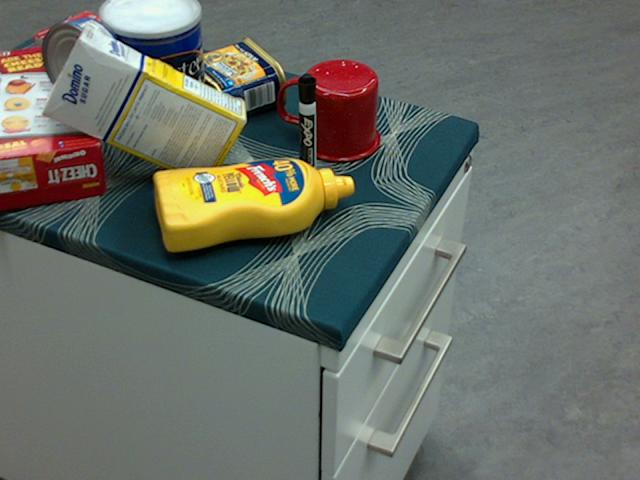cracker_box: (0, 46, 107, 209)
gelatin_box: (35, 12, 129, 73)
large_marker: (296, 73, 316, 180)
master_chef_can: (100, 0, 205, 149)
mug: (277, 59, 378, 162)
mustard_bottle: (152, 157, 354, 251)
potted_meat_can: (182, 37, 286, 123)
sugar_box: (43, 27, 248, 184)
tomato_soup_can: (94, 8, 182, 97)
tuna_fish_can: (41, 17, 127, 106)
